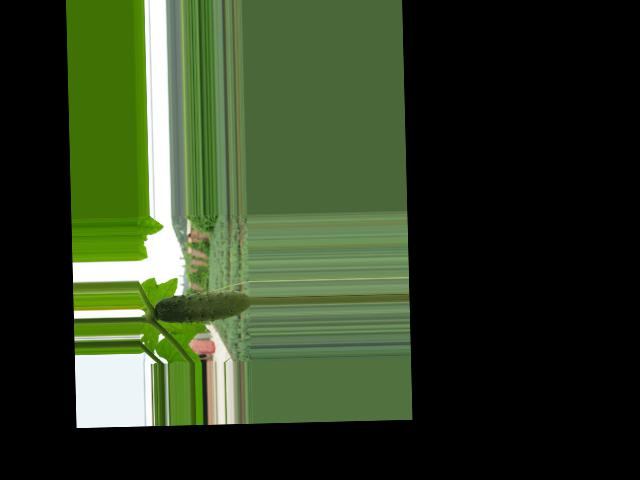cucumber: (154, 290, 251, 323)
